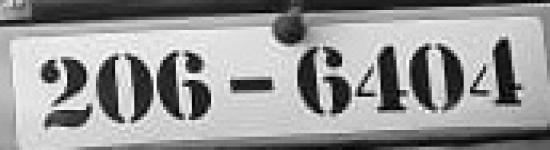-: (227, 69, 279, 100)
0: (96, 46, 156, 131), (408, 36, 470, 116)
2: (37, 54, 95, 132)
4: (470, 28, 526, 111), (357, 42, 411, 116)
6: (292, 41, 354, 119), (156, 45, 216, 123)
